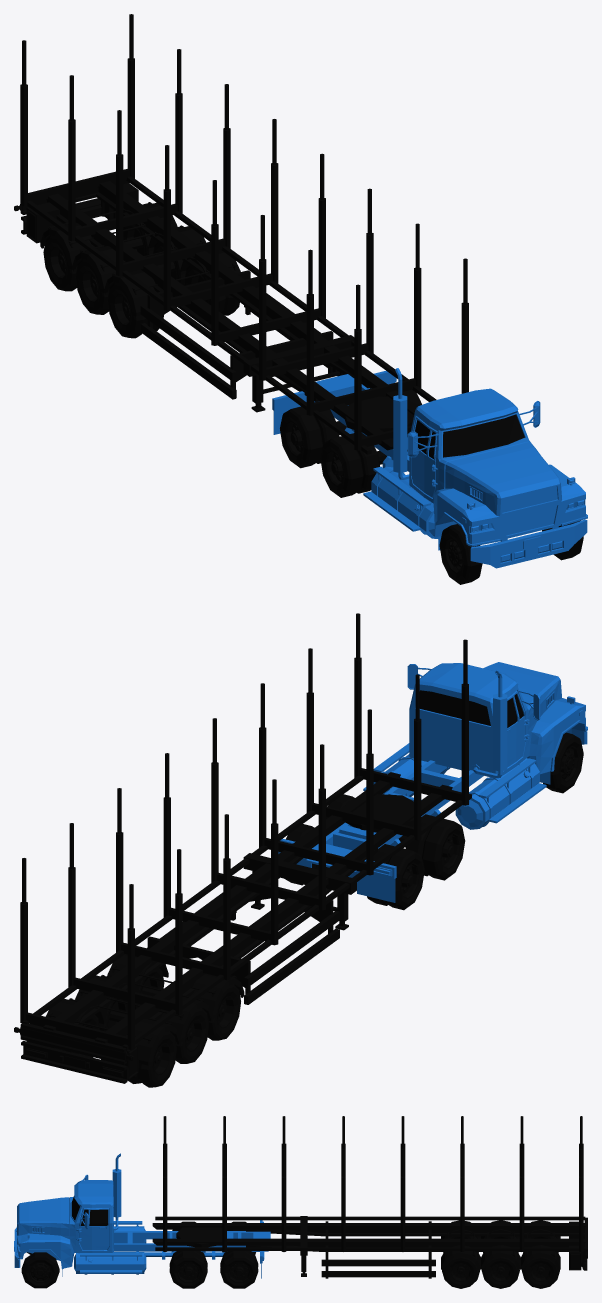
File: SM_timber_carrier.fbx
The picture shows the model from 3 angles, top to bottom: view 1: azimuth 30°, elevation 25°; view 2: azimuth 150°, elevation 25°; view 3: azimuth 270°, elevation 25°; orthographic projection. The views are drawn at different scales.
Visible parts, largest first — view 1: Cylinder_12, Symmetry_2, Cylinder_6, Cylinder_1_2, Oil_Tank_3, Oil_Tank_1, Cylinder_4, Oil_Tank_4; view 2: Cylinder_12, Symmetry_2, Cylinder_6, Cylinder_1_2, Oil_Tank_4, Oil_Tank_3, Oil_Tank_1, Cylinder_4; view 3: Cylinder_12, Symmetry_2, Cylinder_1_2, Cylinder_6, Cylinder_5, Oil_Tank_4, Oil_Tank_1, Oil_Tank_3.
Boxes of the visible parts, <box> form: Cylinder_12: <box>14,14,468,454</box>; Symmetry_2: <box>272,368,587,568</box>; Cylinder_6: <box>320,433,407,497</box>; Cylinder_1_2: <box>280,389,421,468</box>; Oil_Tank_3: <box>107,265,239,338</box>; Oil_Tank_1: <box>43,224,153,291</box>; Cylinder_4: <box>439,524,482,584</box>; Oil_Tank_4: <box>75,242,185,314</box>; Cylinder_12: <box>14,613,471,1083</box>; Symmetry_2: <box>278,662,587,902</box>; Cylinder_6: <box>326,794,465,880</box>; Cylinder_1_2: <box>284,824,424,910</box>; Oil_Tank_4: <box>99,998,209,1063</box>; Oil_Tank_3: <box>135,968,240,1040</box>; Oil_Tank_1: <box>62,1015,176,1087</box>; Cylinder_4: <box>543,732,583,793</box>; Cylinder_12: <box>152,1116,587,1278</box>; Symmetry_2: <box>14,1153,270,1278</box>; Cylinder_1_2: <box>220,1221,258,1288</box>; Cylinder_6: <box>169,1221,207,1288</box>; Cylinder_5: <box>21,1252,59,1288</box>; Oil_Tank_4: <box>481,1236,519,1288</box>; Oil_Tank_1: <box>521,1236,559,1288</box>; Oil_Tank_3: <box>442,1236,479,1288</box>.
Bounding box in the file's own units: 298 × 484 × 1782.
